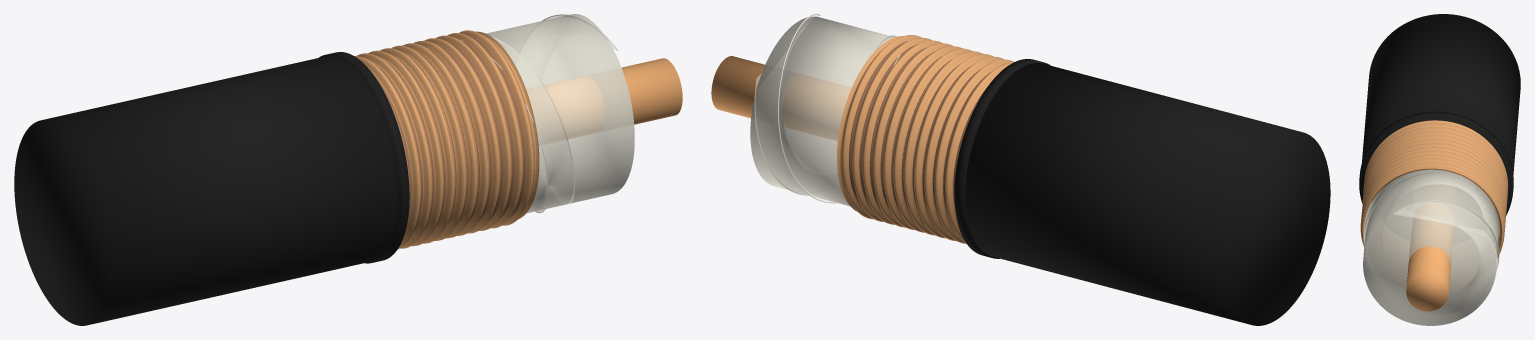
Rendered from rf-ldf2.glb.
The picture shows the model from 3 angles, left to right: view 1: azimuth 30°, elevation 25°; view 2: azimuth 150°, elevation 25°; view 3: azimuth 270°, elevation 25°; orthographic projection. The views are drawn at different scales.
Visible parts, largest first — view 1: black PE jacket body, corrugated copper shield, foam PE dielectric, solid center conductor continuous, dark groove shadow pass, surface PTFE tape wrap, jacket cut lip; view 2: black PE jacket body, corrugated copper shield, foam PE dielectric, solid center conductor continuous, dark groove shadow pass, jacket cut lip, surface PTFE tape wrap; view 3: foam PE dielectric, black PE jacket body, corrugated copper shield, surface PTFE tape wrap, solid center conductor continuous, jacket cut lip, subtle PTFE tape lap line.
Part boxes in pixels (x1,y1,x2,y2): black PE jacket body: (14, 56, 397, 325); corrugated copper shield: (354, 30, 539, 248); foam PE dielectric: (486, 14, 634, 213); solid center conductor continuous: (527, 58, 682, 145); dark groove shadow pass: (374, 36, 534, 233); surface PTFE tape wrap: (492, 15, 616, 211); jacket cut lip: (318, 52, 409, 263); black PE jacket body: (965, 63, 1330, 325); corrugated copper shield: (837, 35, 1014, 243); foam PE dielectric: (750, 16, 894, 206); solid center conductor continuous: (711, 56, 851, 140); dark groove shadow pass: (841, 41, 990, 224); jacket cut lip: (954, 59, 1050, 258); surface PTFE tape wrap: (755, 15, 896, 201); foam PE dielectric: (1363, 169, 1499, 325); black PE jacket body: (1362, 14, 1520, 174); corrugated copper shield: (1360, 120, 1508, 257); surface PTFE tape wrap: (1364, 172, 1499, 310); solid center conductor continuous: (1406, 202, 1453, 311); jacket cut lip: (1359, 111, 1513, 215); subtle PTFE tape lap line: (1363, 200, 1499, 270).
Size of the model in its own units: 6.69 by 2.07 by 2.17.
